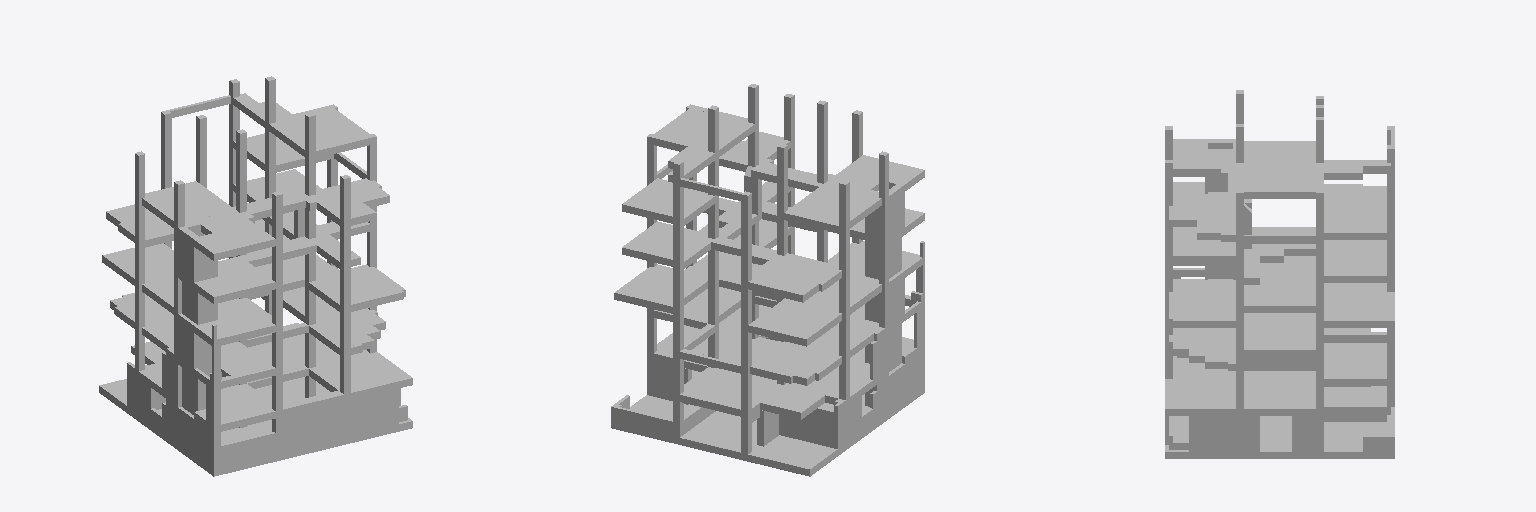
Rendered from Level.obj.
The picture shows the model from 3 angles: view 1: azimuth 30°, elevation 25°; view 2: azimuth 150°, elevation 25°; view 3: azimuth 270°, elevation 25°; orthographic projection.
Visible parts, largest first — view 1: Level; view 2: Level; view 3: Level.
Boxes of the visible parts, box(x1,y1,x2,y2) form: Level: box(99, 76, 412, 476); Level: box(611, 84, 924, 476); Level: box(1165, 90, 1394, 458).
Size of the model in its own units: 17.4 by 25.8 by 17.4.